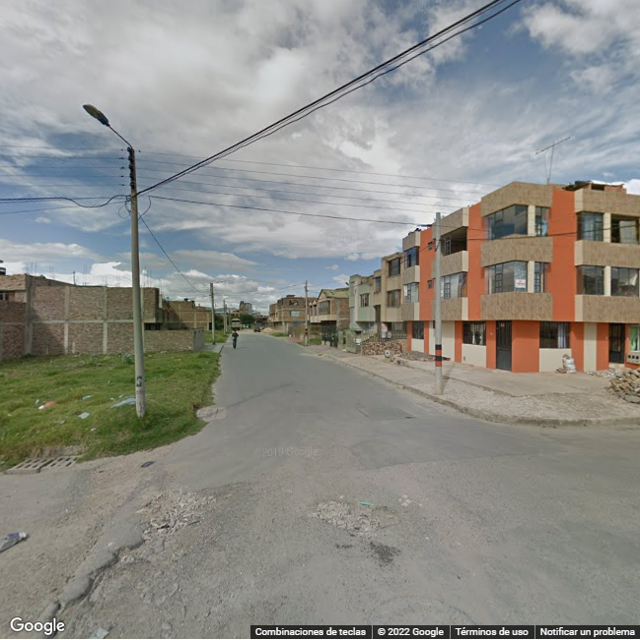D40: (307, 493, 388, 536), (135, 486, 207, 531)
